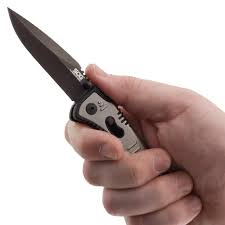knife: (2, 3, 182, 199)
